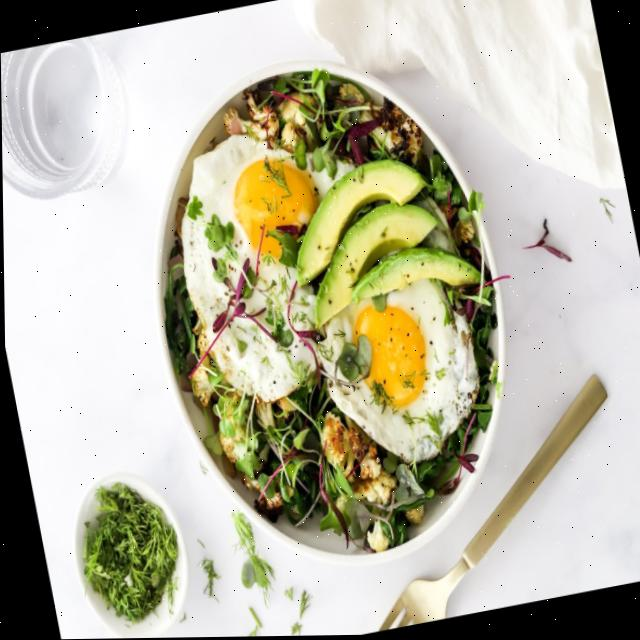Egg: (180, 134, 330, 403), (316, 277, 478, 462)
